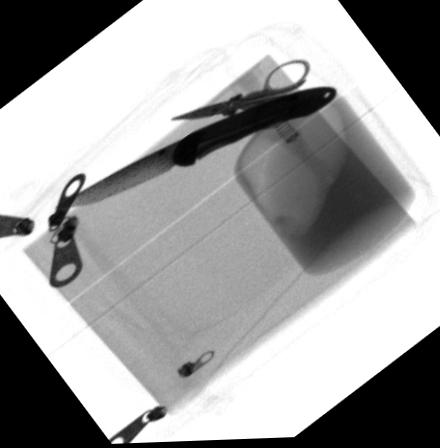Knife: (52, 86, 338, 209)
Scissors: (168, 59, 306, 133)
